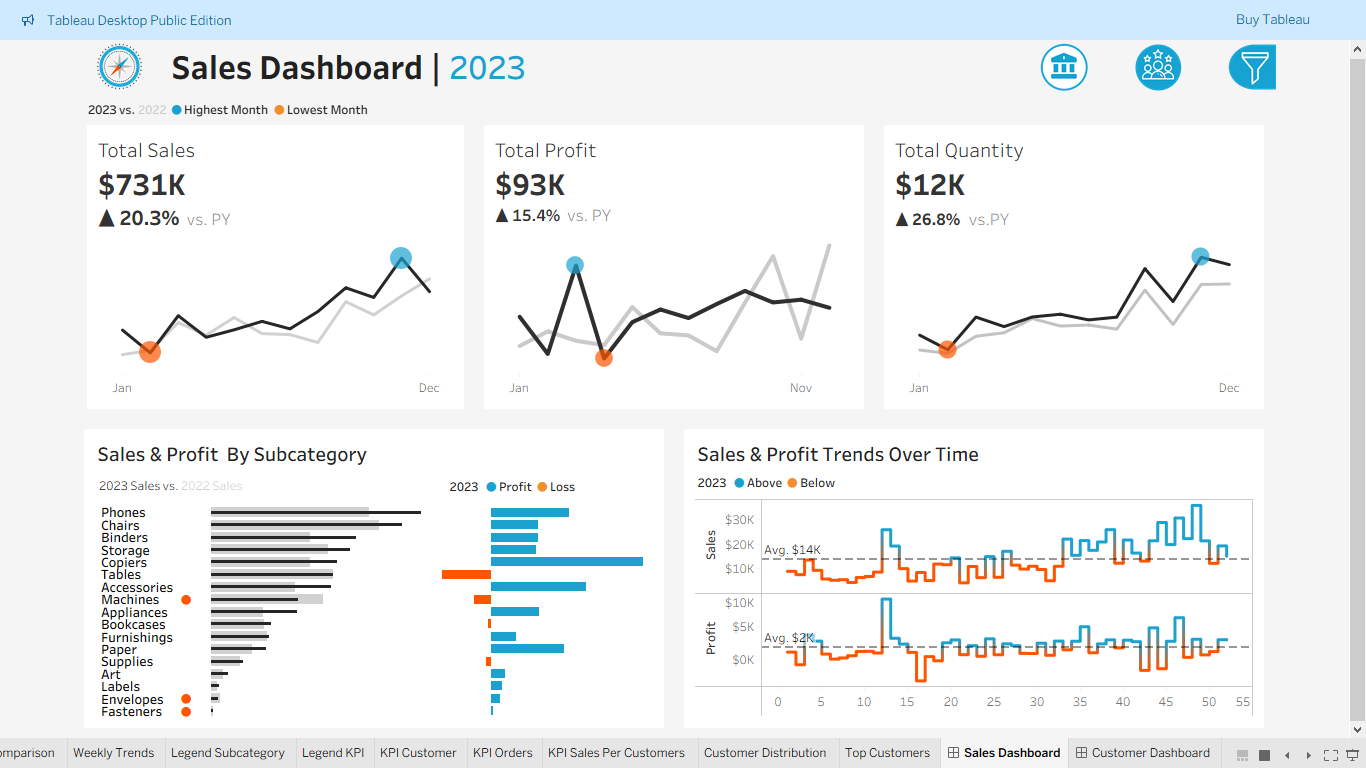

This screenshot's page, from the dashboard's own definition file:
{"tool":"tableau","page":{"name":"Sales Dashboard","canvas":[1000,1000],"units":"permille","ordinal":1},"visuals":[{"type":"image","param":"Image/Icon - Logo.png","box":[0,0,75.8,80]},{"type":"text","box":[75.8,0,924.2,80]},{"type":"dashboard-object","box":[785.8,1.4,78.3,80]},{"type":"dashboard-object","box":[864.2,1.4,78.3,80]},{"type":"blank","box":[815.6,23.6,170.5,94.2]},{"type":"worksheet","title":"Legend KPI","mark":"Automatic","box":[0,80,1000,44.3]},{"type":"text","box":[815.6,117.8,170.5,61.6]},{"type":"worksheet","title":"KPI Sales","mark":"Automatic","rows":["Calculation_411797939698376715"],"cols":["Order Date"],"box":[0,124.3,333.3,420]},{"type":"worksheet","title":"KPI Profit","mark":"Automatic","rows":["Calculation_256142285436346371"],"cols":["Order Date"],"box":[333.3,124.3,333.3,420]},{"type":"worksheet","title":"KPI Quantity","mark":"Automatic","rows":["Calculation_799951934317387779"],"cols":["Order Date"],"box":[666.7,124.3,333.3,420]},{"type":"parameter","param":"[Parameters].[Parameter 1]","box":[815.6,179.3,170.5,103.3]},{"type":"blank","box":[815.6,282.6,170.5,101.5]},{"type":"text","box":[815.6,384.1,170.5,52.5]},{"type":"filter","title":"KPI Sales","param":"[federated.0z51kn80oo3xuu15p9ar91ivaggo].[none:Category:nk]","box":[815.6,436.6,170.5,94.2]},{"type":"filter","title":"KPI Sales","param":"[federated.0z51kn80oo3xuu15p9ar91ivaggo].[none:Sub-Category:nk]","box":[815.6,530.8,170.5,94.2]},{"type":"text","box":[14.2,568.6,471.7,48.6]},{"type":"text","box":[514.2,568.6,471.7,48.6]},{"type":"worksheet","title":"Legend Subcategory","mark":"Automatic","box":[14.2,617.1,293.3,45.7]},{"type":"text","box":[307.5,617.1,178.3,45.7]},{"type":"text","box":[514.2,617.1,471.7,35.7]},{"type":"text","box":[815.6,625,170.5,52.5]},{"type":"worksheet","title":"Weekly Trends","mark":"Automatic","rows":["Calculation_411797939654148103","Calculation_256142285433880576"],"cols":["Order Date"],"box":[514.2,652.9,471.7,322.8]},{"type":"worksheet","title":"Subcategory Comparison","mark":"Bar","rows":["Sub-Category","Calculation_583216208608317440"],"cols":["CY Sales (copy)_411797939657203720","Calculation_411797939654148103","Calculation_256142285433880576"],"box":[14.2,662.9,471.7,312.8]},{"type":"filter","title":"KPI Sales","param":"[federated.0z51kn80oo3xuu15p9ar91ivaggo].[none:Region:nk]","box":[815.6,677.5,170.5,94.2]},{"type":"filter","title":"KPI Sales","param":"[federated.0z51kn80oo3xuu15p9ar91ivaggo].[none:State:nk]","box":[815.6,771.7,170.5,88.8]},{"type":"filter","title":"KPI Sales","param":"[federated.0z51kn80oo3xuu15p9ar91ivaggo].[none:City:nk]","box":[815.6,860.5,170.5,94.2]}]}

Visuals, with their boxes on the dashboard's canvas, which has no fixed pixel size, in thousandths of its width and height (x1, y1, x2, y2). These are canvas units, not pixel positions in the 1366x768 screenshot, which may show the page scaled, cropped or inside an application window:
image: region(0, 0, 76, 80)
text: region(76, 0, 1000, 80)
dashboard-object: region(786, 1, 864, 81)
dashboard-object: region(864, 1, 942, 81)
blank: region(816, 24, 986, 118)
"Legend KPI" worksheet: region(0, 80, 1000, 124)
text: region(816, 118, 986, 179)
"KPI Sales" worksheet: region(0, 124, 333, 544)
"KPI Profit" worksheet: region(333, 124, 667, 544)
"KPI Quantity" worksheet: region(667, 124, 1000, 544)
parameter: region(816, 179, 986, 283)
blank: region(816, 283, 986, 384)
text: region(816, 384, 986, 437)
"KPI Sales" filter: region(816, 437, 986, 531)
"KPI Sales" filter: region(816, 531, 986, 625)
text: region(14, 569, 486, 617)
text: region(514, 569, 986, 617)
"Legend Subcategory" worksheet: region(14, 617, 308, 663)
text: region(308, 617, 486, 663)
text: region(514, 617, 986, 653)
text: region(816, 625, 986, 678)
"Weekly Trends" worksheet: region(514, 653, 986, 976)
"Subcategory Comparison" worksheet (Bar marks): region(14, 663, 486, 976)
"KPI Sales" filter: region(816, 678, 986, 772)
"KPI Sales" filter: region(816, 772, 986, 860)
"KPI Sales" filter: region(816, 860, 986, 955)
